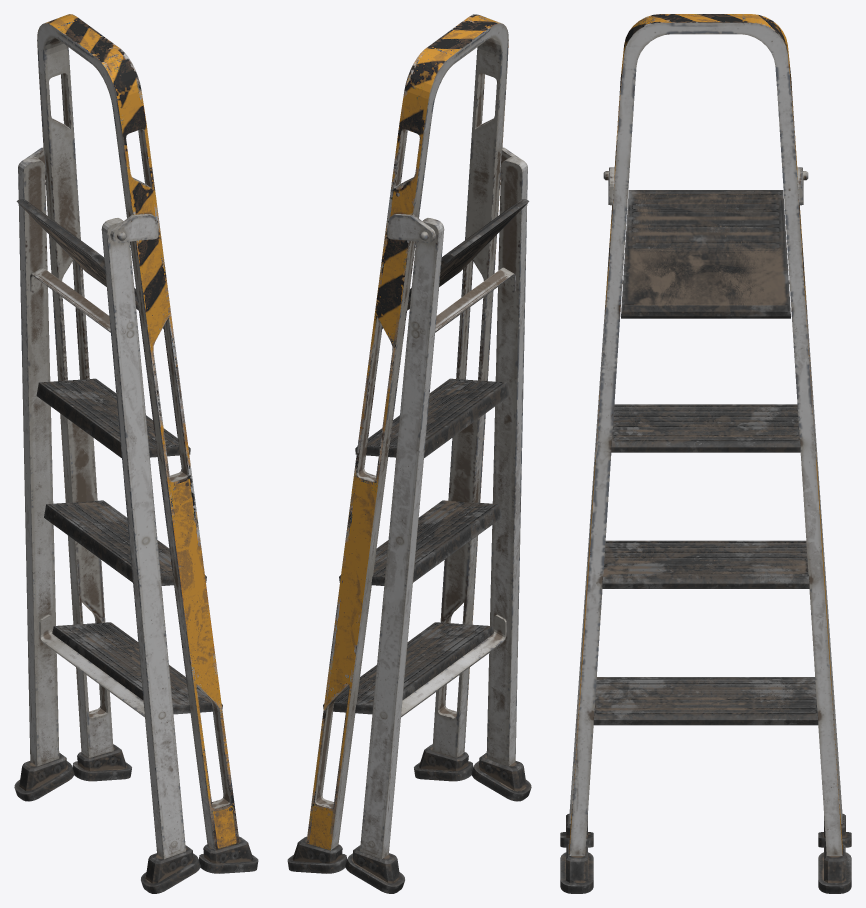
Rendered from SM_Ladder_01_Folded.glb.
The picture shows the model from 3 angles, left to right: view 1: azimuth 30°, elevation 25°; view 2: azimuth 150°, elevation 25°; view 3: azimuth 270°, elevation 25°; orthographic projection. The views are drawn at different scales.
Parts seen in each view (by area): view 1: SM_Ladder_01_Folded; view 2: SM_Ladder_01_Folded; view 3: SM_Ladder_01_Folded.
Boxes of the visible parts, x1,y1,x2,y2 form: SM_Ladder_01_Folded: [14, 14, 258, 893]; SM_Ladder_01_Folded: [287, 14, 531, 893]; SM_Ladder_01_Folded: [560, 14, 851, 893].
Bounding box in the file's own units: 0.3459 × 1.94 × 0.6207.
Materials: 1 (1 with a texture image).
